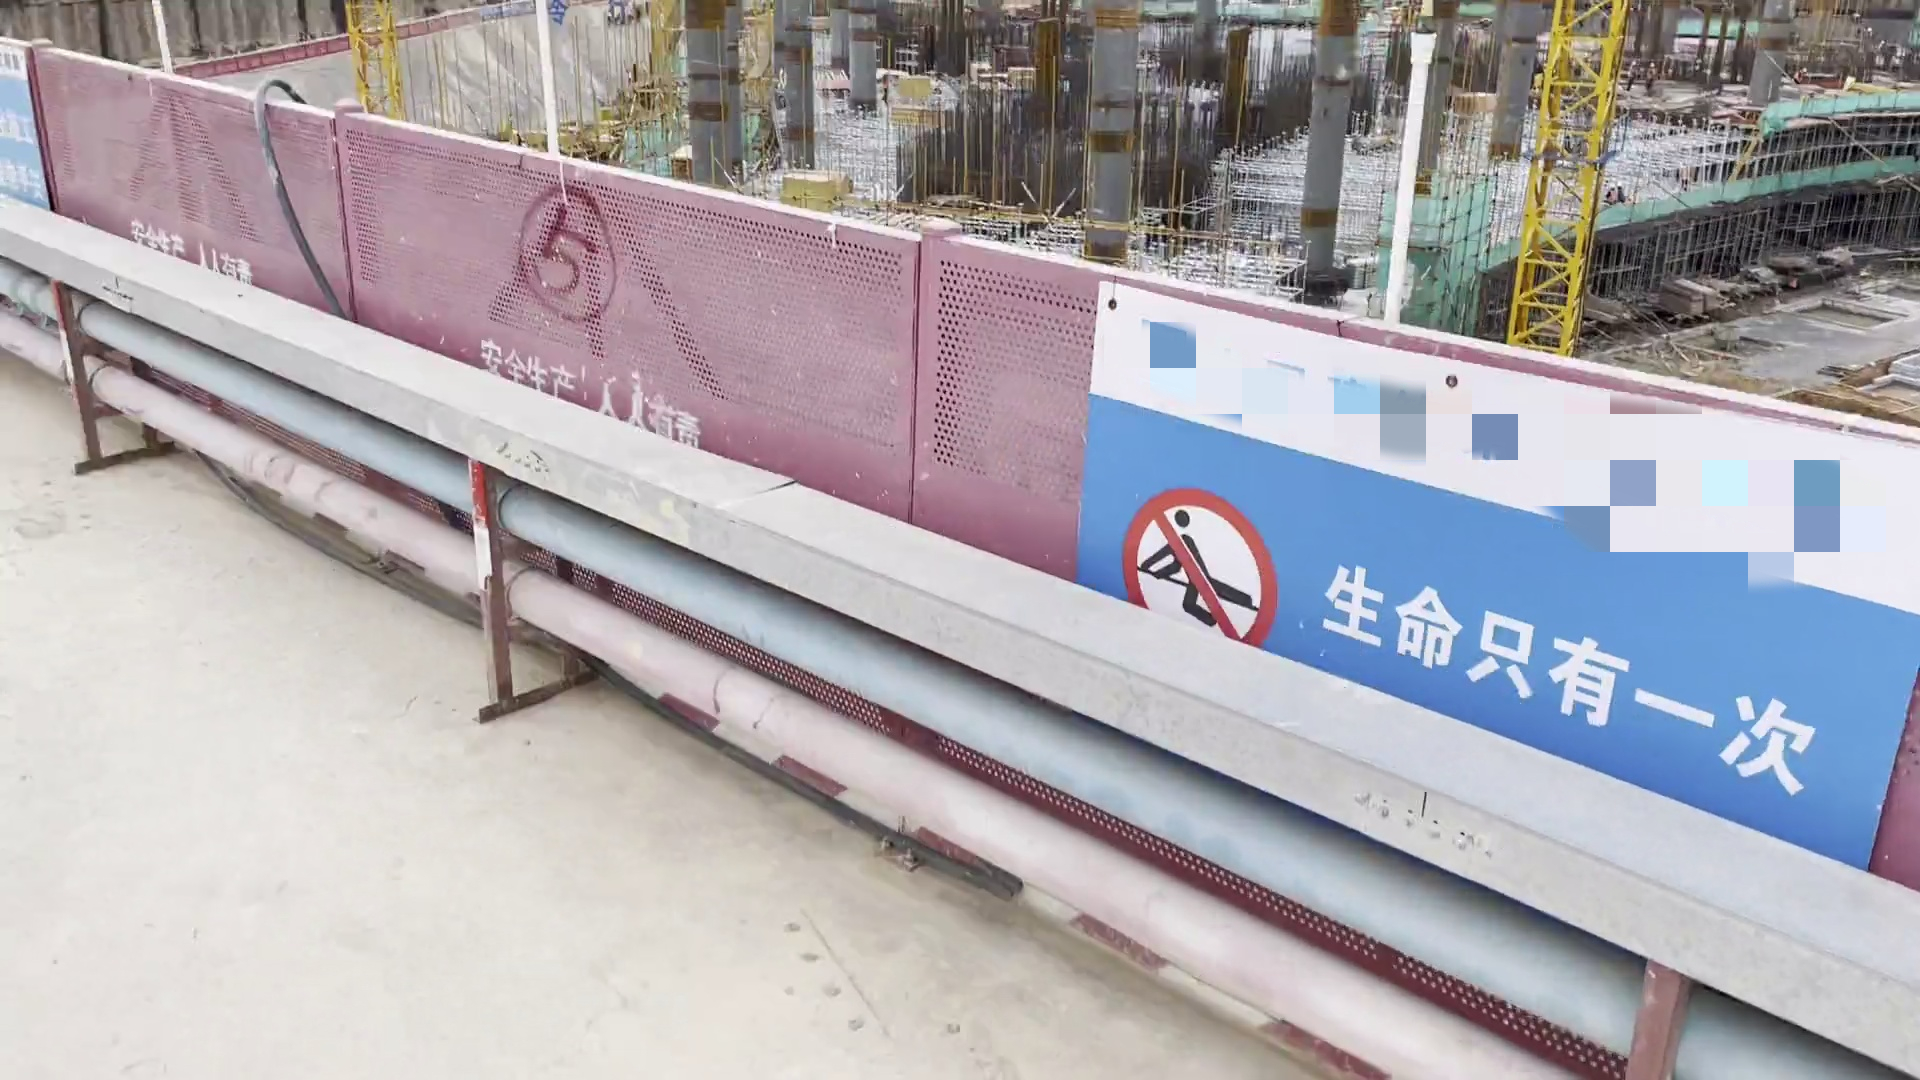brick: (1820, 297, 1899, 322), (1876, 353, 1920, 389)
fence: (928, 237, 1920, 901), (335, 123, 948, 572), (1, 36, 357, 392)
scaffold: (1345, 247, 1379, 291)
slogan: (1056, 255, 1920, 969), (1, 28, 76, 220)
wood: (778, 167, 862, 212), (891, 75, 942, 128), (667, 142, 691, 182)
